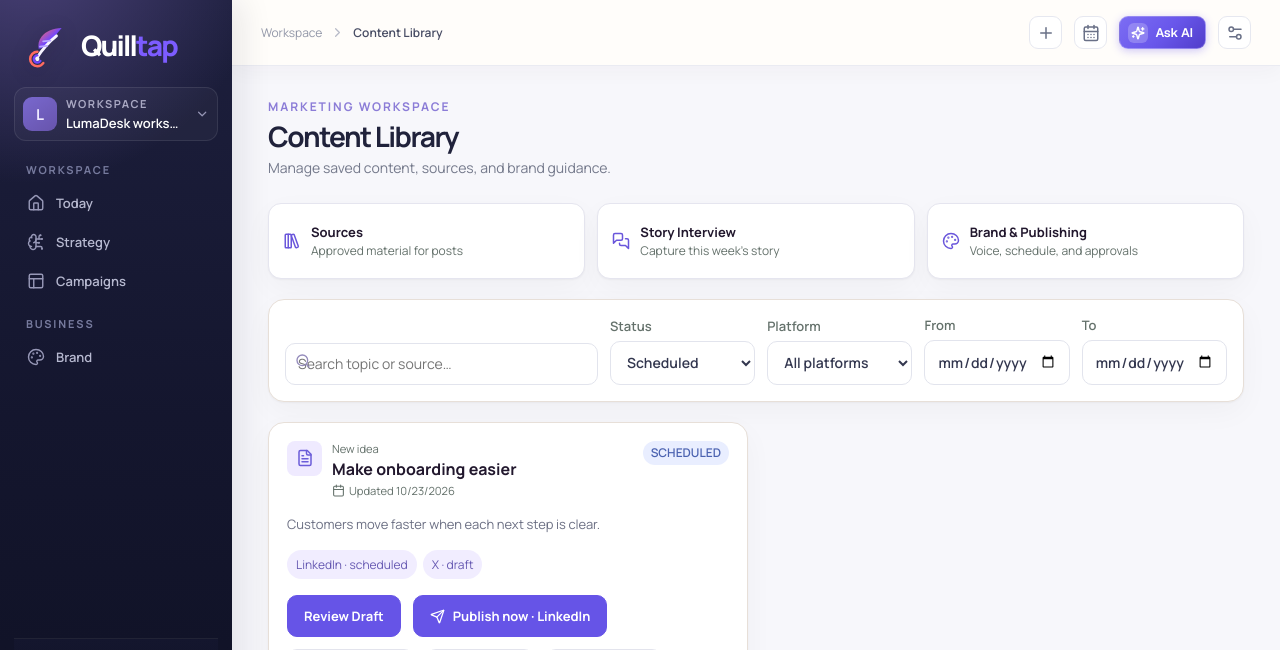
Test: Quilltap core screens › publishes a scheduled variant from Content Library
The image size is (1280, 650).
Click the button "Publish now · LinkedIn". click: (510, 616)
box: [413,595,607,637]
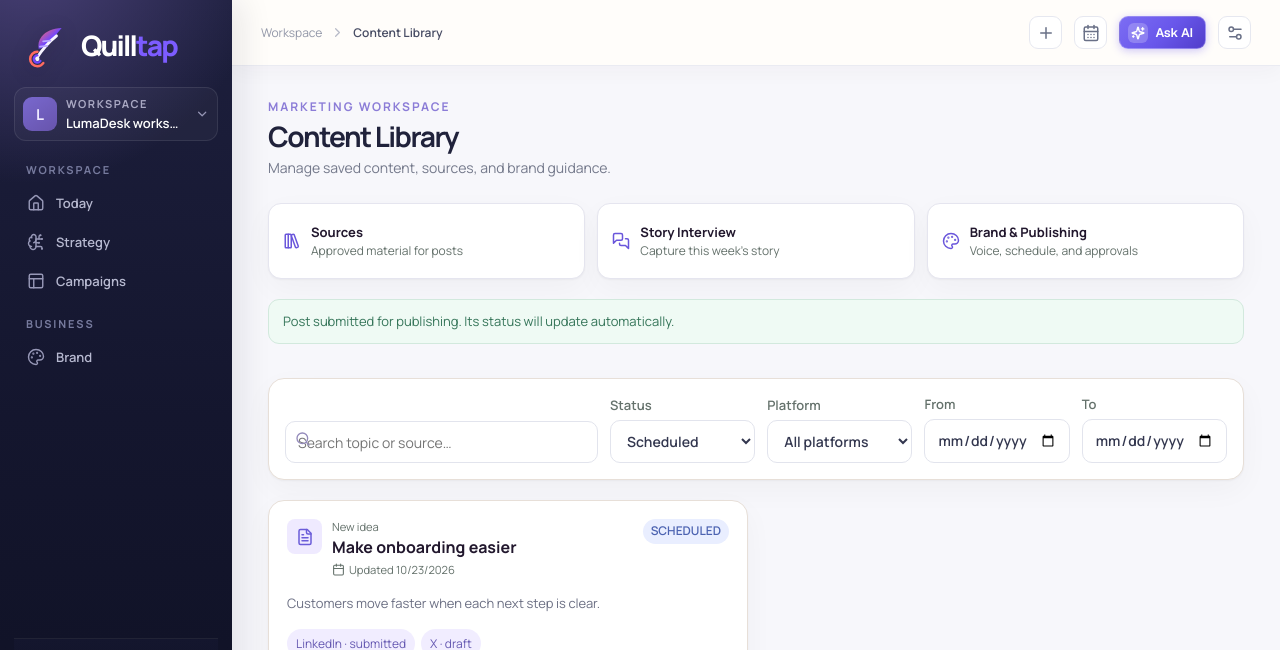
Now the text "Post submitted for publishing. Its status will update automatically." is shown, box [268,299,1244,344]
